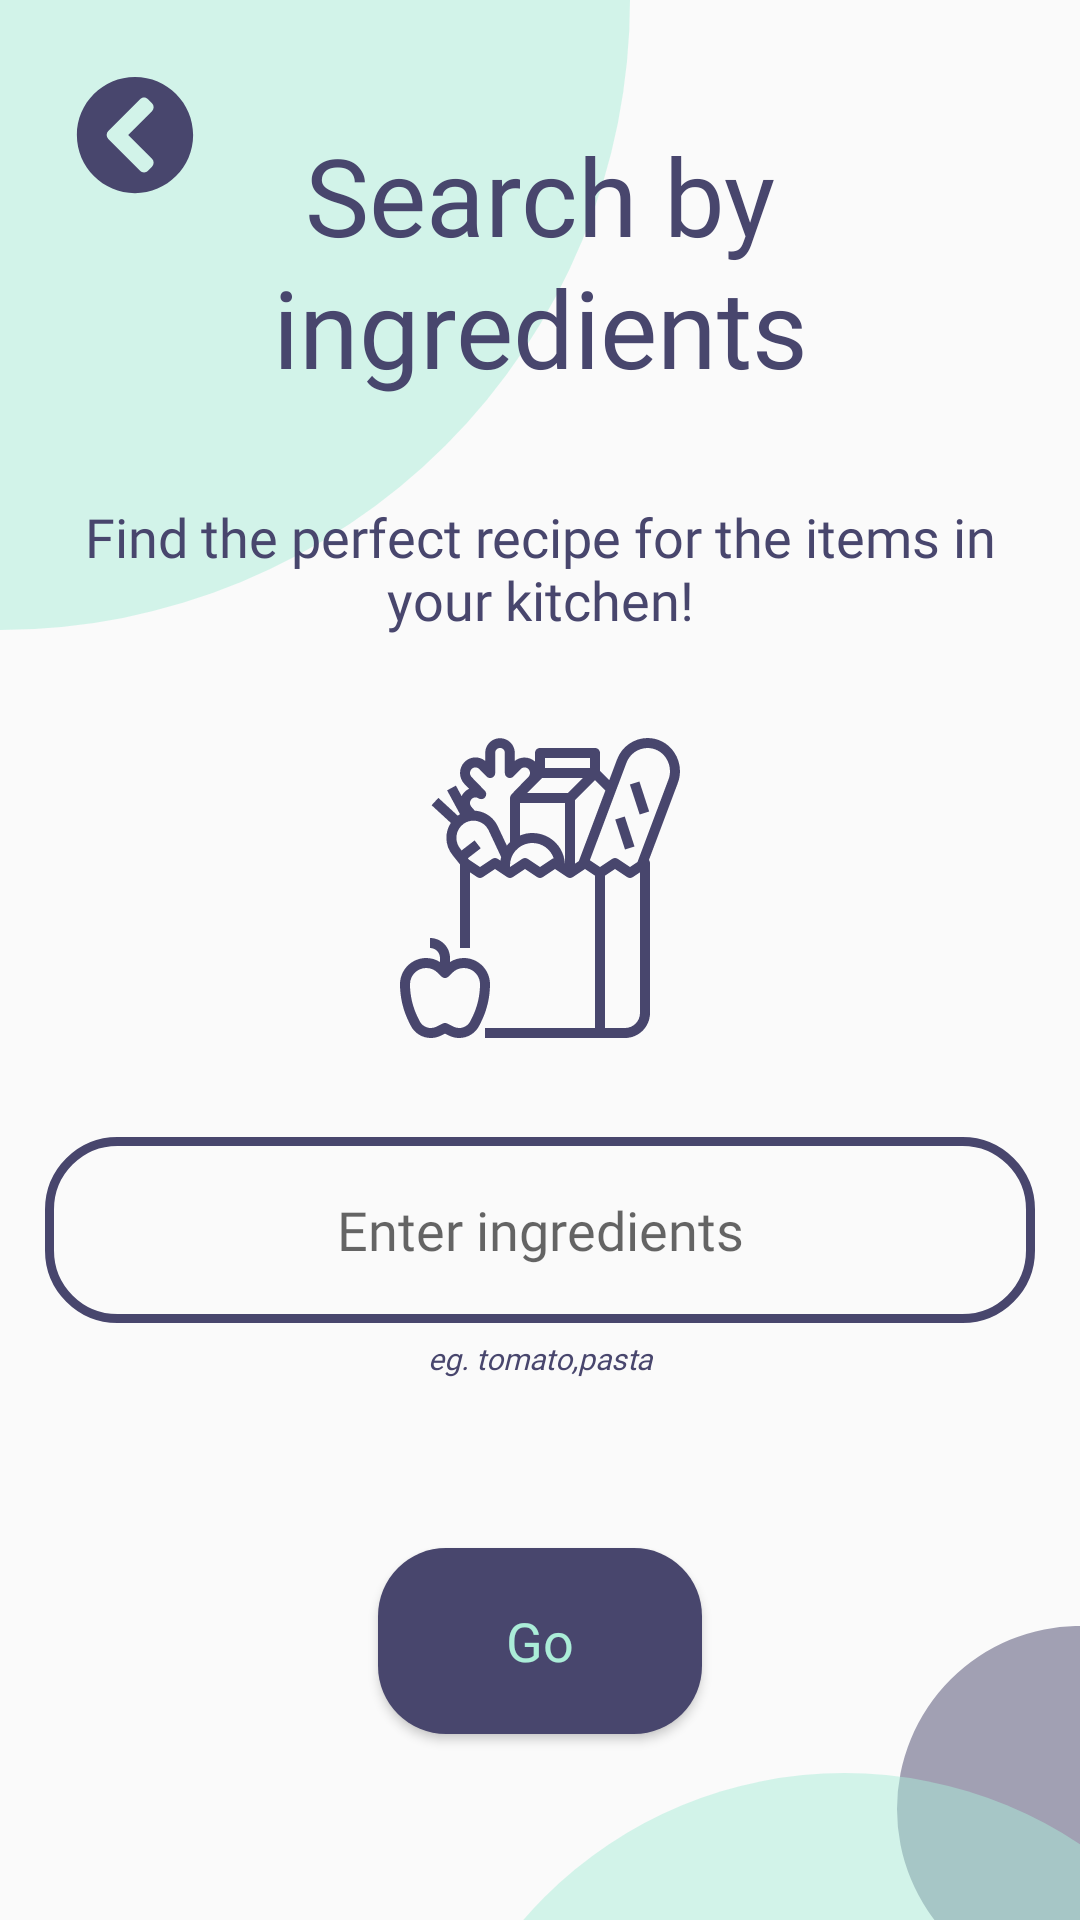

Icons on this 1080x1920 Android screen, each with the point to tap as (x=x, y=y):
back arrow: (x=135, y=135)
grocery: (x=540, y=888)
